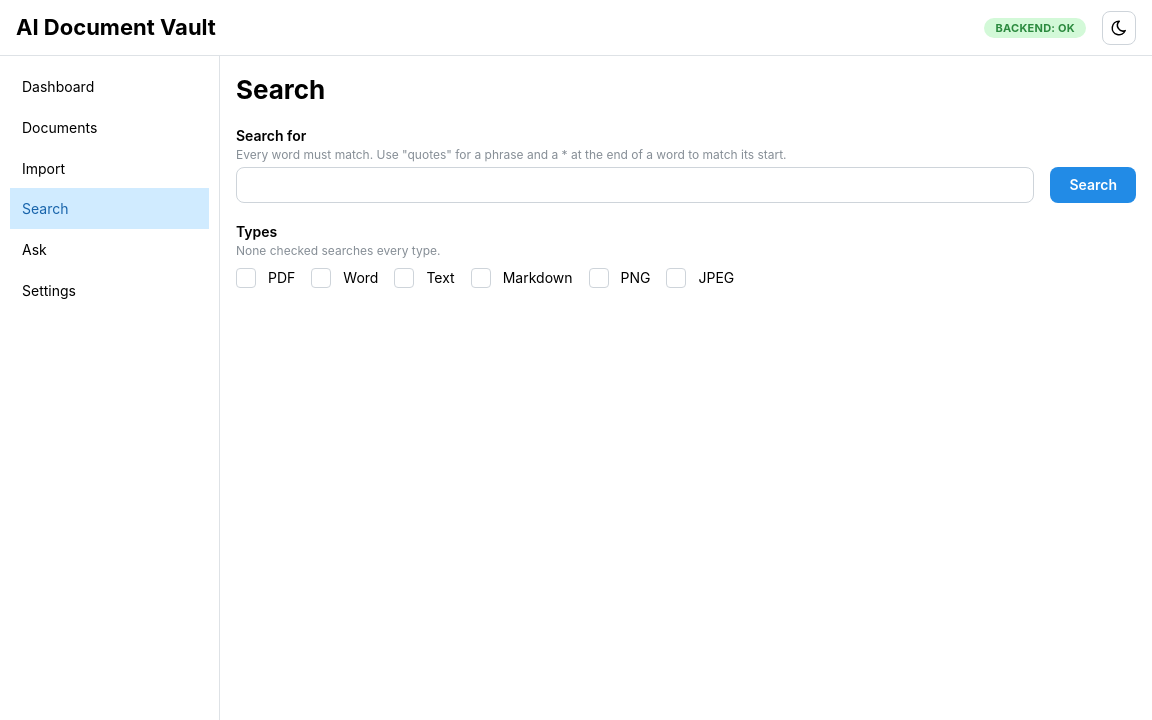
Test: search page › shows each matching document with its marked snippet, section and page, and links to it
The image size is (1152, 720).
Check: the heading "Search" is shown, box top-left (236, 74), bottom-right (325, 105)
In the search field labelled "Search for": (635, 185) top-left (236, 167), bottom-right (1034, 203), type "\"Jane Doe\" diagnos*"
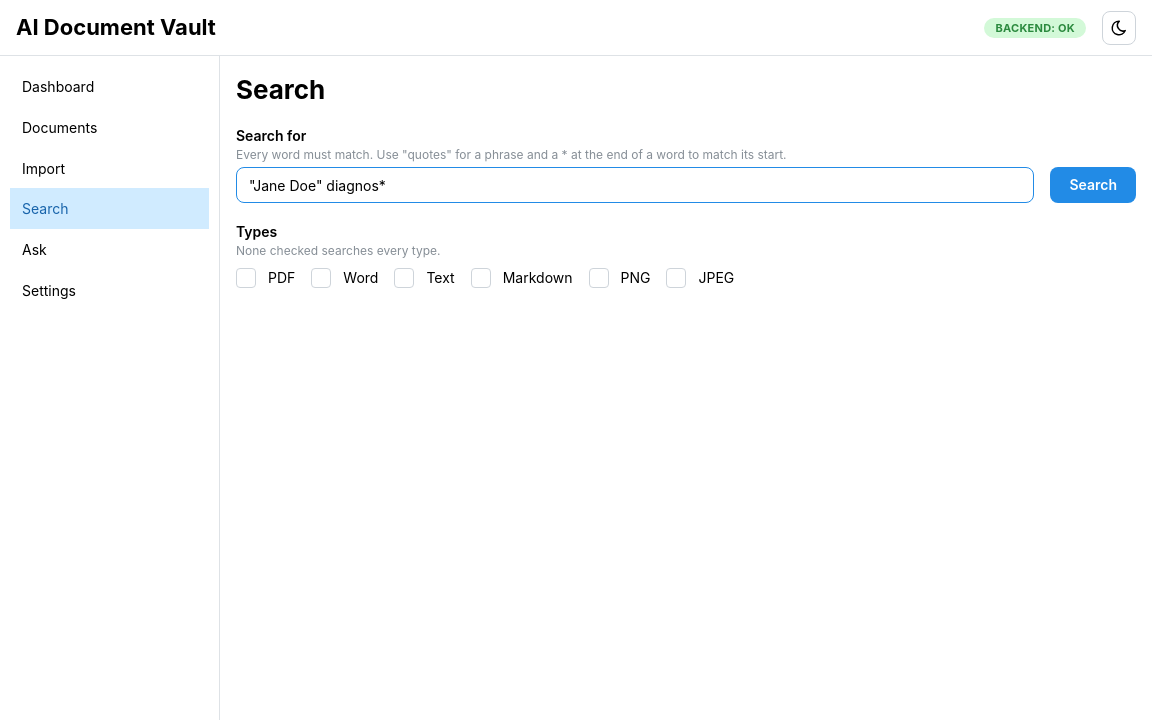
Click the button "Search": (1093, 185) top-left (1050, 167), bottom-right (1136, 203)
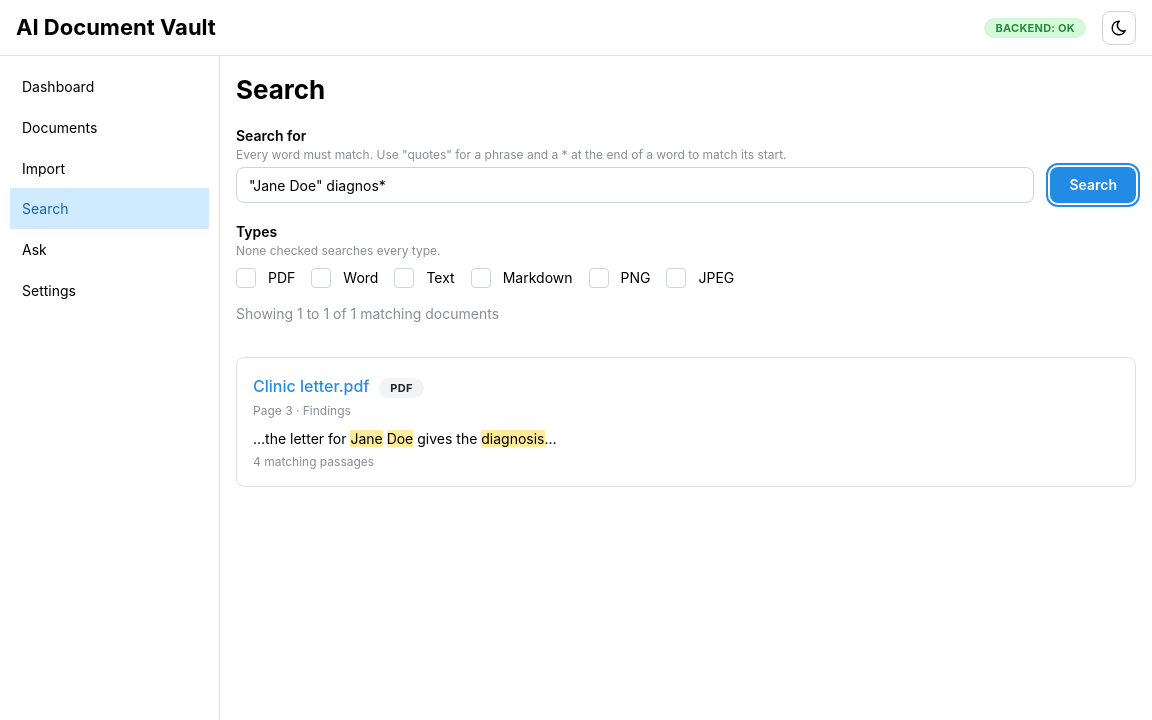
Check: the text "…the letter for Jane Doe gives the diagnosis…" is shown, box top-left (253, 430), bottom-right (557, 447)
Check: the text "Page 3 · Findings" is shown, box top-left (253, 403), bottom-right (351, 418)
Check: the text "4 matching passages" is shown, box top-left (253, 454), bottom-right (374, 469)
